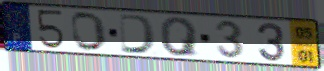3: (214, 19, 246, 61), (256, 21, 287, 63)
5: (35, 8, 65, 50)
D: (117, 13, 158, 56)
O: (70, 10, 109, 53)
Q: (158, 16, 201, 58)
